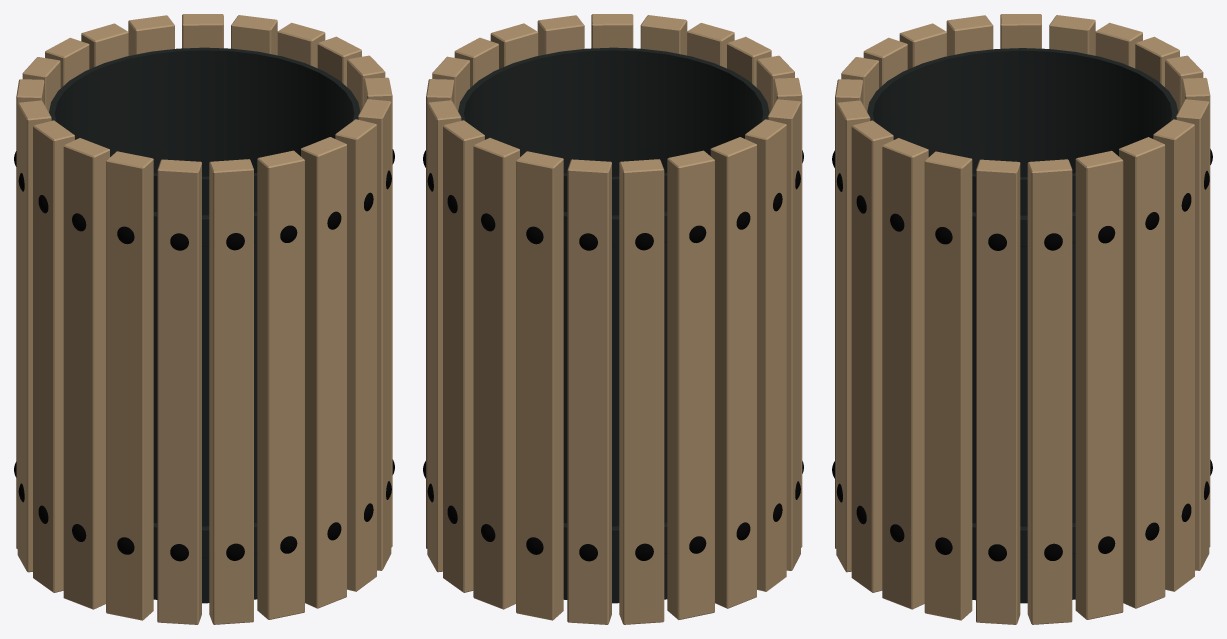
Rendered from City_Bin.fbx.
3 views of the same model, side by side, from view 1: azimuth 30°, elevation 25°; view 2: azimuth 150°, elevation 25°; view 3: azimuth 270°, elevation 25° (orthographic).
Visible parts, largest first — view 1: Wooden_Cover, City_Bin, Bottom_Screws, Top_Screw, Circle; view 2: Wooden_Cover, City_Bin, Bottom_Screws, Top_Screw, Circle; view 3: Wooden_Cover, City_Bin, Top_Screw, Bottom_Screws, Circle.
Part boxes in pixels (x1,y1,x2,y2): Wooden_Cover: (16,14,392,624); City_Bin: (49,47,360,603); Bottom_Screws: (14,459,394,561); Top_Screw: (14,149,394,250); Circle: (153,211,257,557); Wooden_Cover: (426,14,802,624); City_Bin: (458,47,769,603); Bottom_Screws: (423,461,803,561); Top_Screw: (423,150,803,250); Circle: (563,211,667,557); Wooden_Cover: (835,14,1210,624); City_Bin: (867,48,1177,603); Top_Screw: (832,149,1212,250); Bottom_Screws: (832,459,1212,561); Circle: (972,212,1075,557).
Size of the model in its own units: 60.96 by 80.2 by 61.05.
